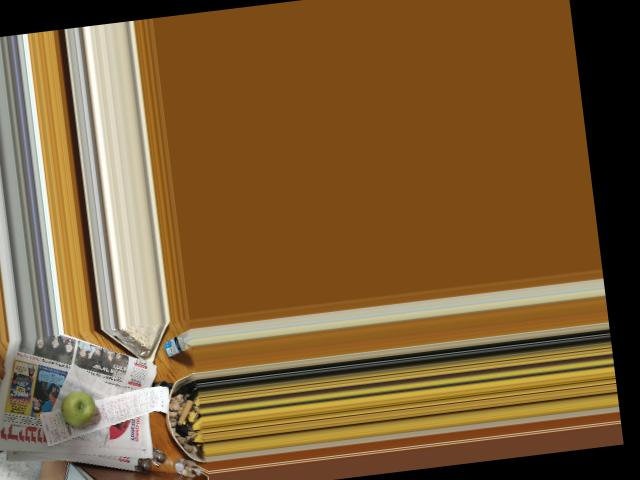apple: (52, 387, 100, 430)
